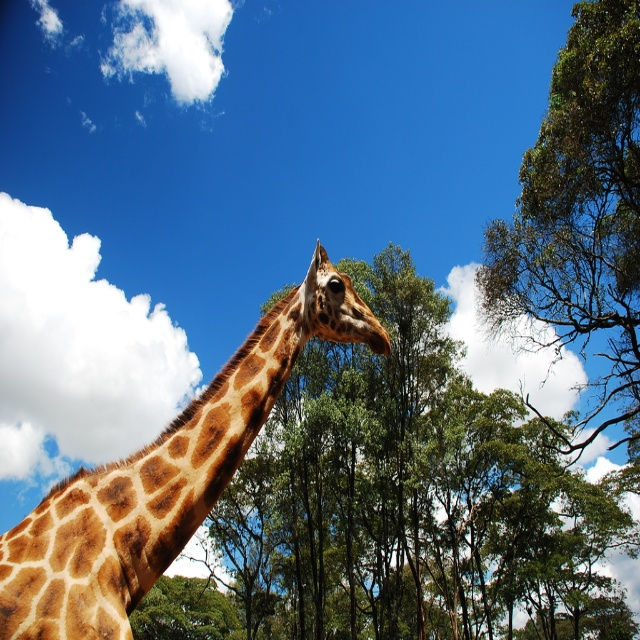Giraffe: (0, 238, 389, 639)
